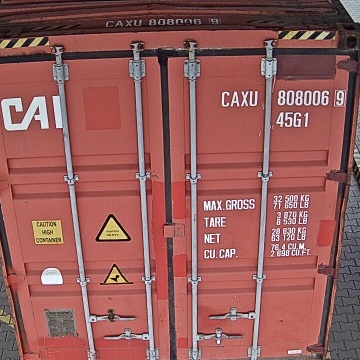serial_id: (221, 89, 345, 106)
